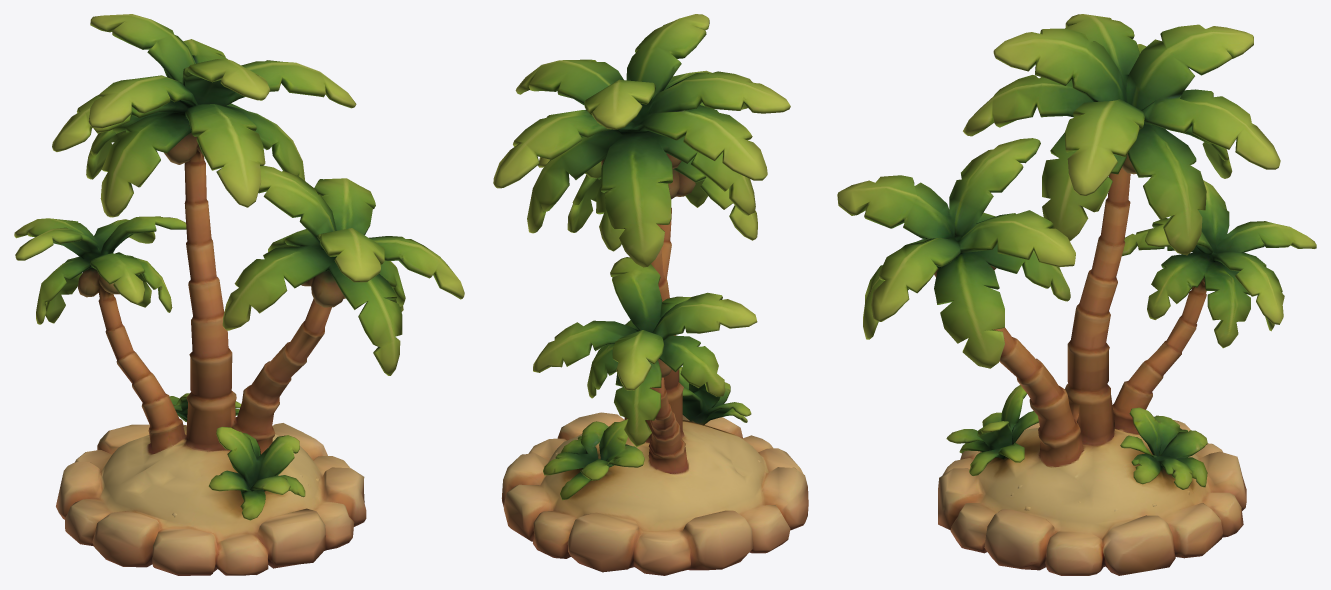
File: model_url.glb
The picture shows the model from 3 angles, left to right: view 1: azimuth 30°, elevation 25°; view 2: azimuth 150°, elevation 25°; view 3: azimuth 270°, elevation 25°; orthographic projection.
Visible parts, largest first — view 1: tripo_node_f153a4fe-4569-40ab-990c-68079011d342; view 2: tripo_node_f153a4fe-4569-40ab-990c-68079011d342; view 3: tripo_node_f153a4fe-4569-40ab-990c-68079011d342.
Part boxes in pixels (left/top/right/bottom): tripo_node_f153a4fe-4569-40ab-990c-68079011d342: left=14, top=14, right=464, bottom=575; tripo_node_f153a4fe-4569-40ab-990c-68079011d342: left=493, top=14, right=808, bottom=575; tripo_node_f153a4fe-4569-40ab-990c-68079011d342: left=837, top=14, right=1316, bottom=575.
Size of the model in its own units: 0.6654 by 0.998 by 0.9119.
Materials: 1 (1 with a texture image).
